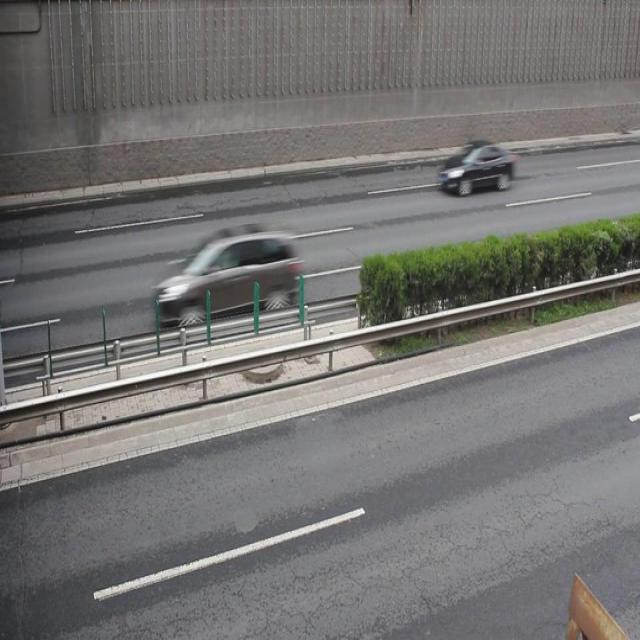car: (154, 224, 304, 324), (437, 136, 513, 196)
